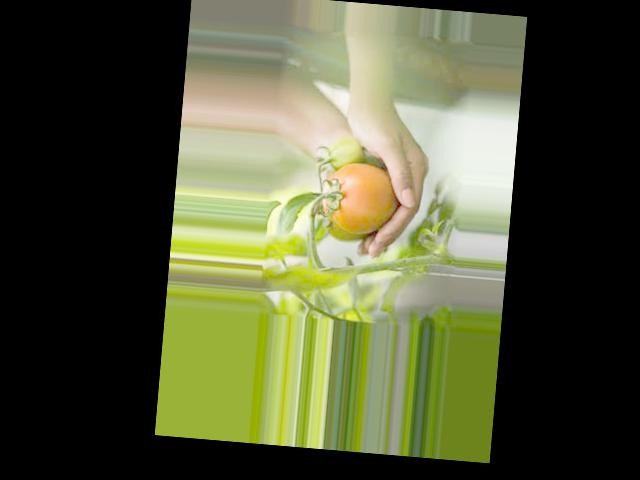tomato: (320, 160, 397, 235)
